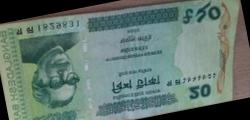20 taka: (8, 1, 239, 116)
